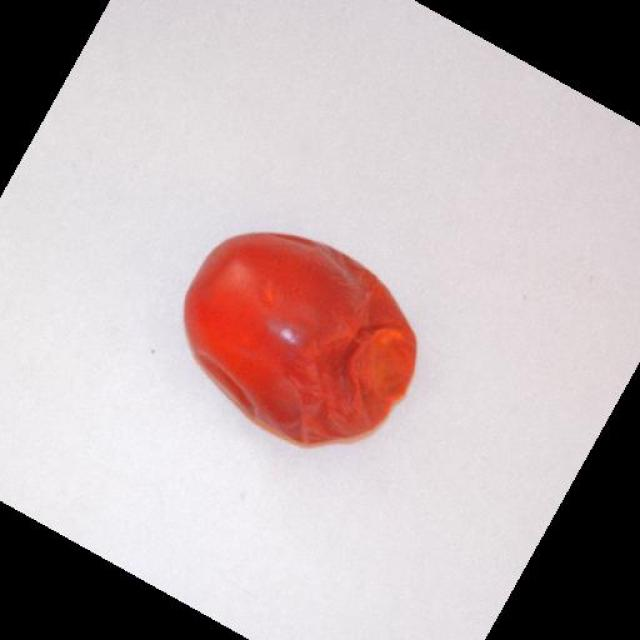Stale_tomato: (169, 231, 409, 451)
